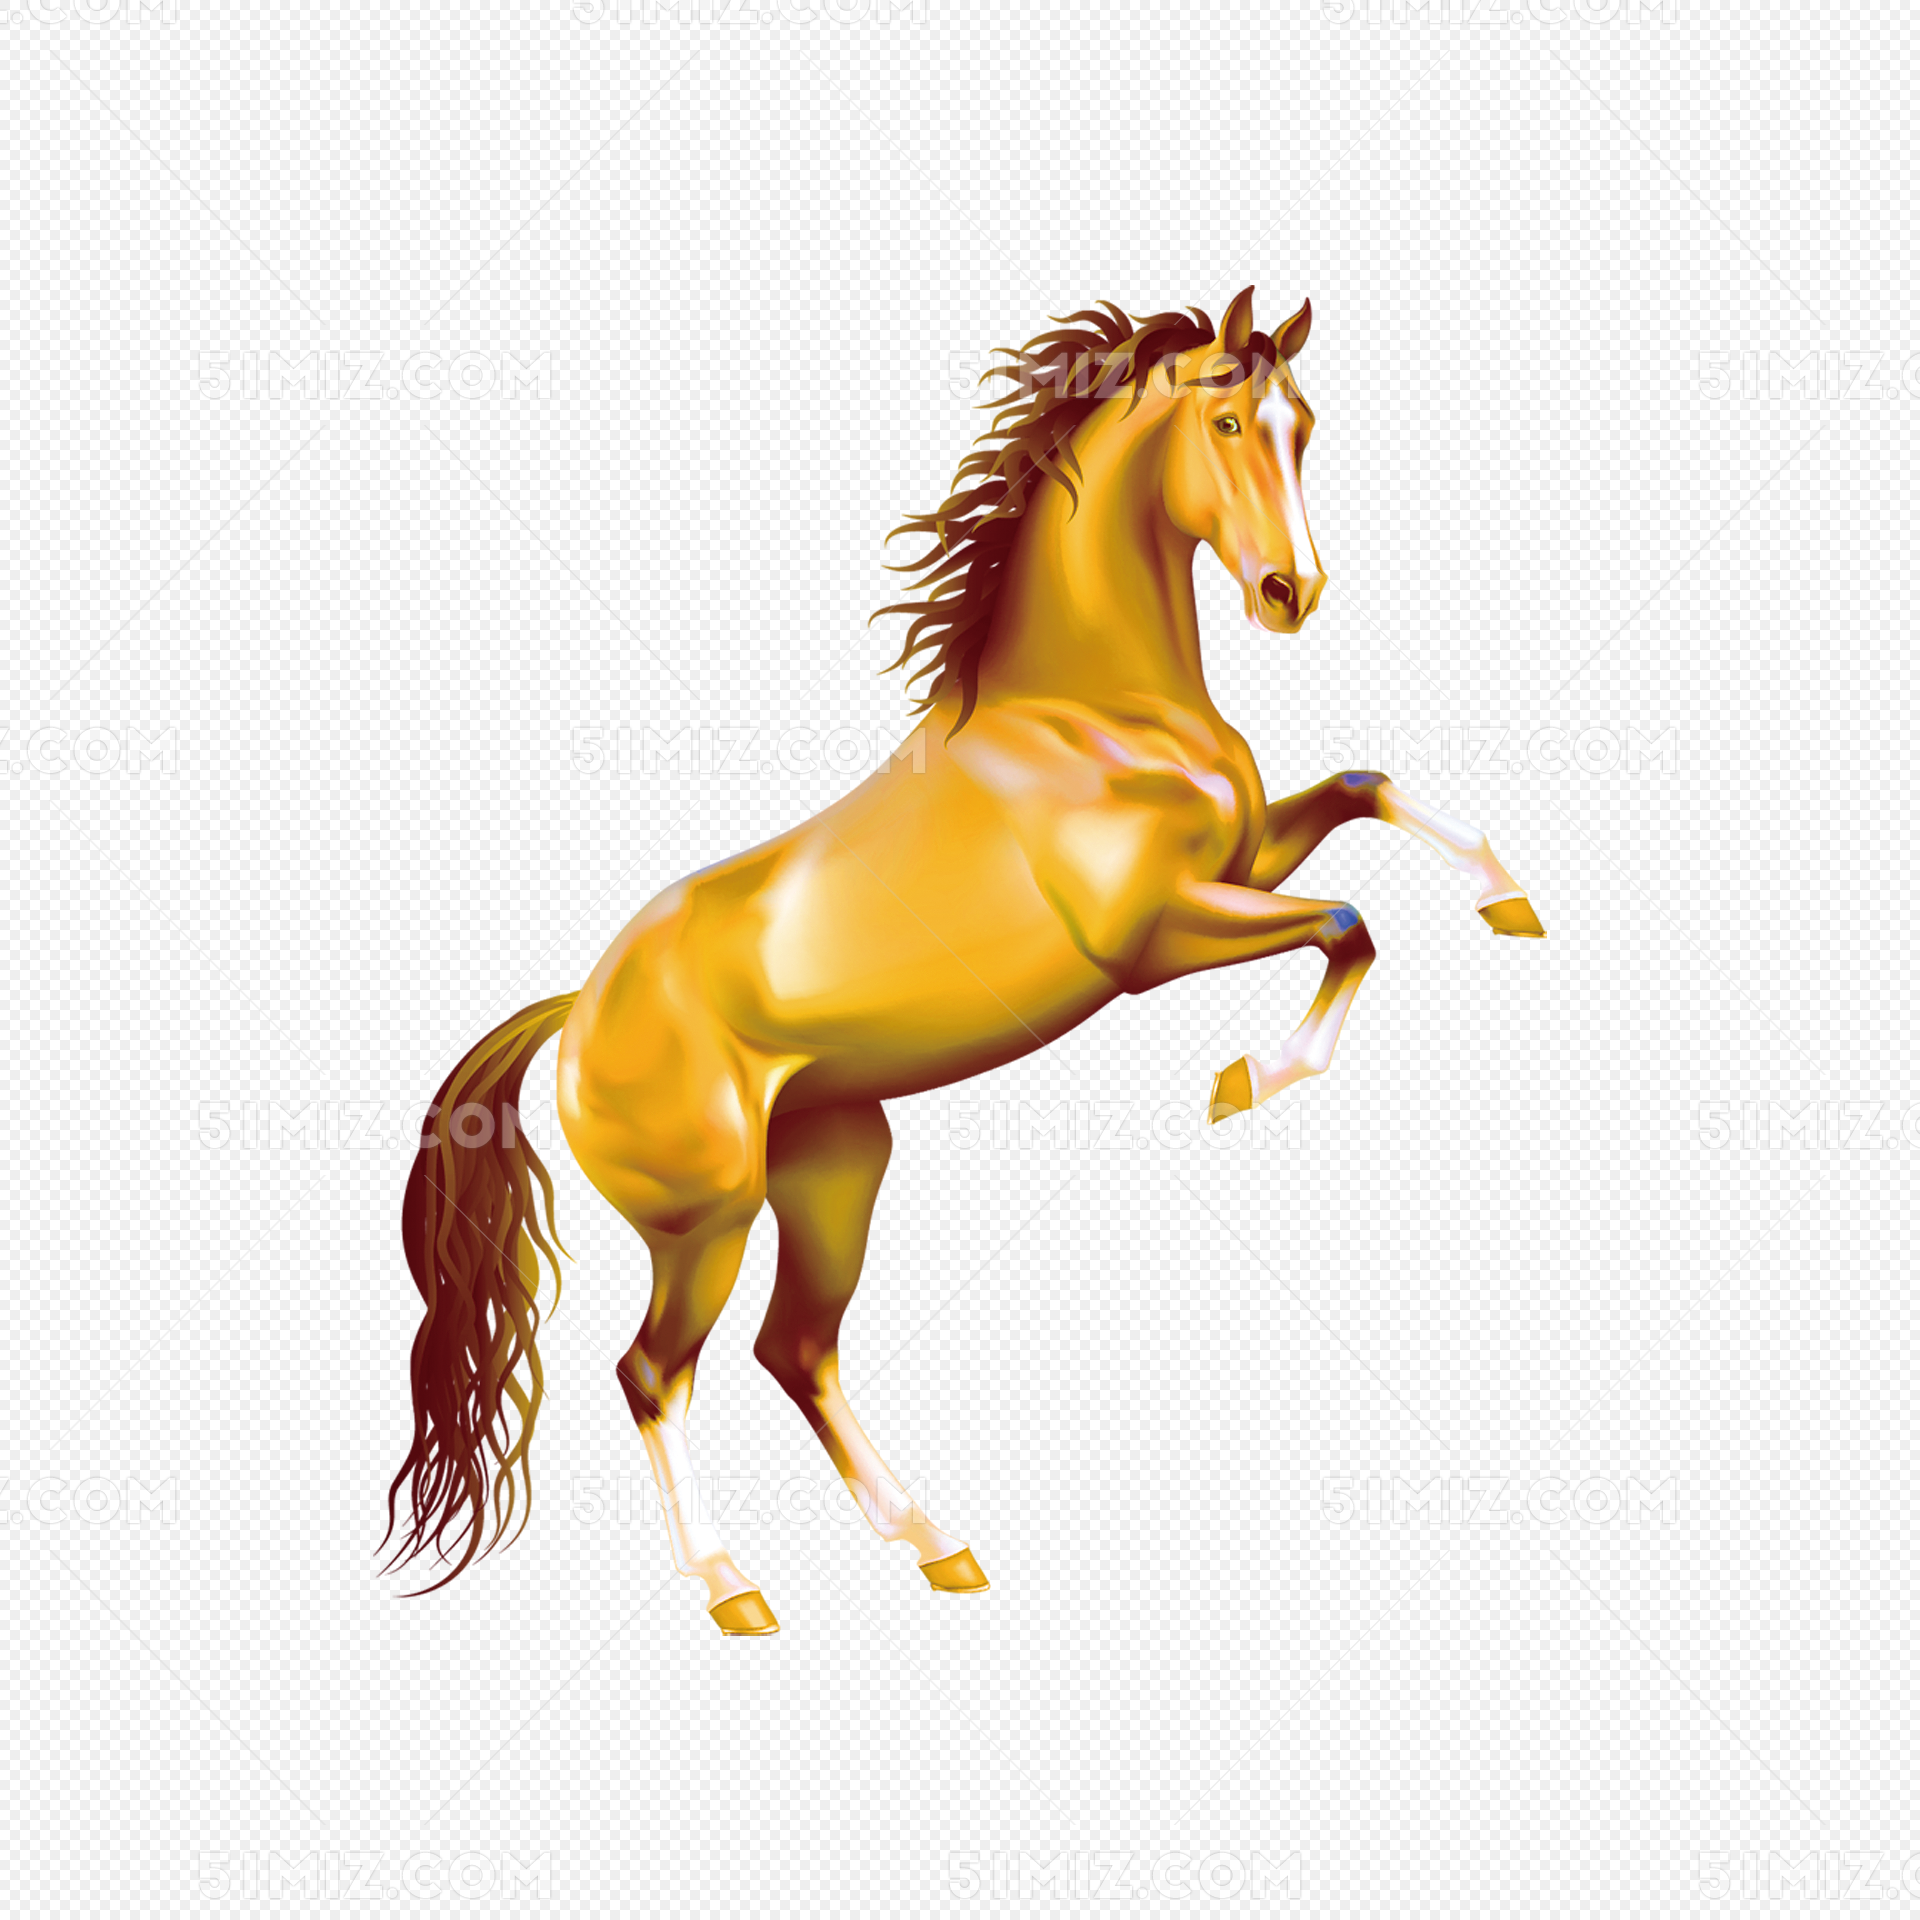background: (385, 287, 1533, 1639)
